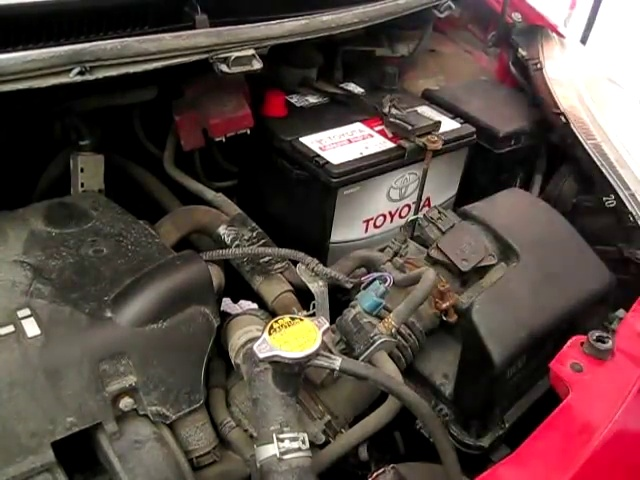battery: (231, 84, 479, 185)
pos_connected: (192, 77, 292, 142)
